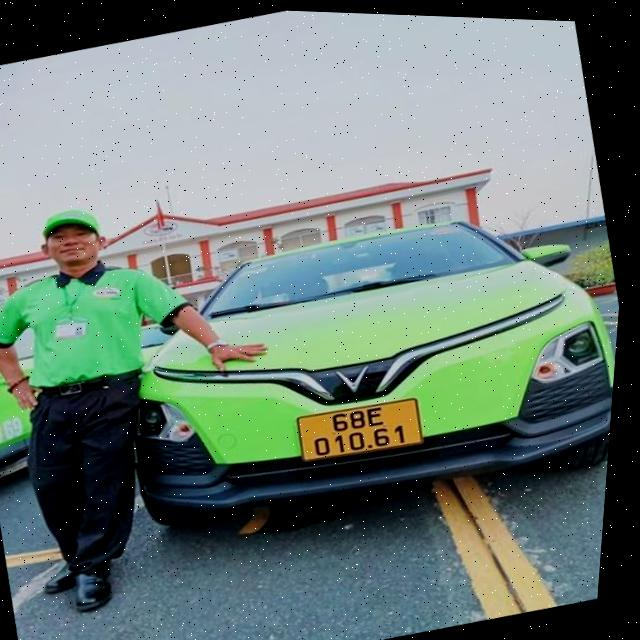car: (85, 152, 629, 581)
plate: (283, 381, 437, 477)
